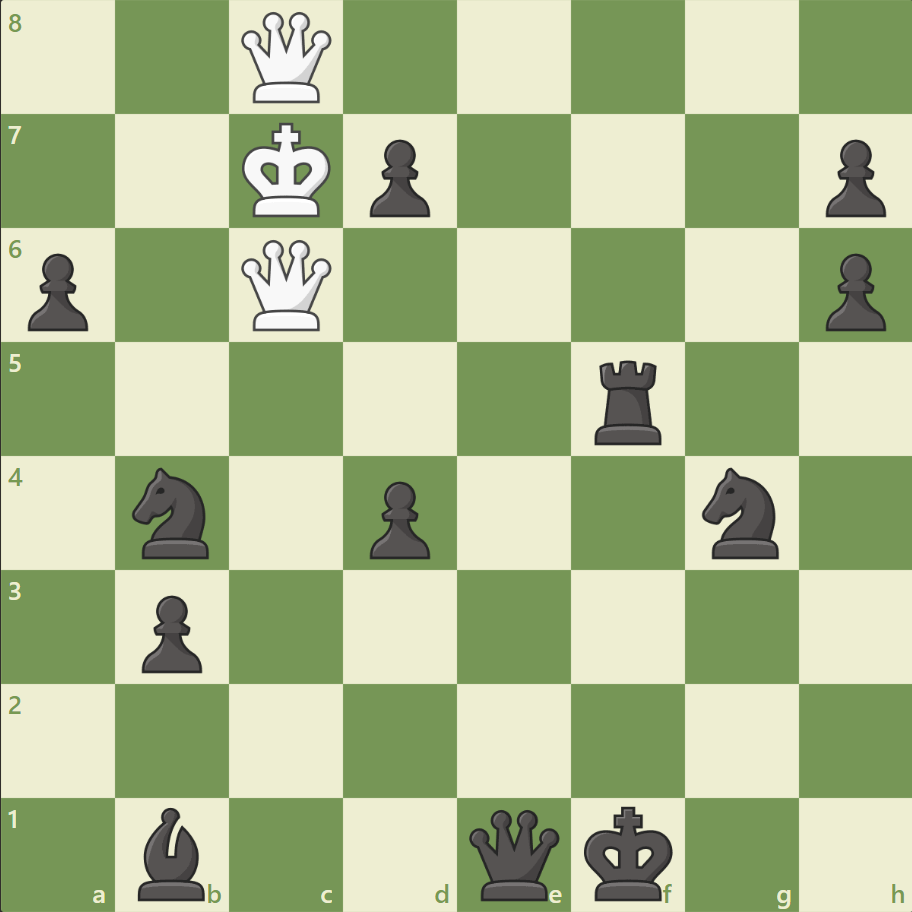K: (238, 117, 338, 225)
Q: (237, 9, 336, 108), (237, 236, 336, 335)
b: (131, 801, 215, 904)
k: (579, 798, 679, 906)
n: (124, 461, 222, 564), (692, 461, 789, 564)
p: (20, 246, 95, 337), (133, 586, 208, 677), (361, 132, 435, 223), (815, 132, 889, 223), (815, 246, 889, 337), (361, 473, 435, 564)
q: (464, 804, 563, 903)
r: (587, 352, 670, 449)
